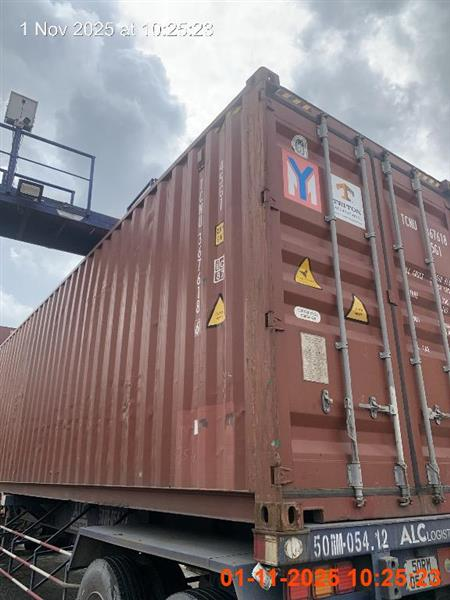scratch: (0, 66, 449, 599), (1, 66, 449, 599)
